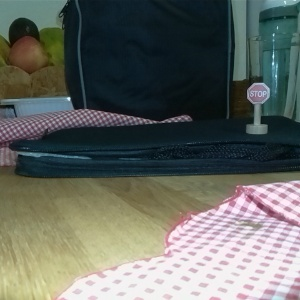stop sign: (245, 81, 271, 137)
